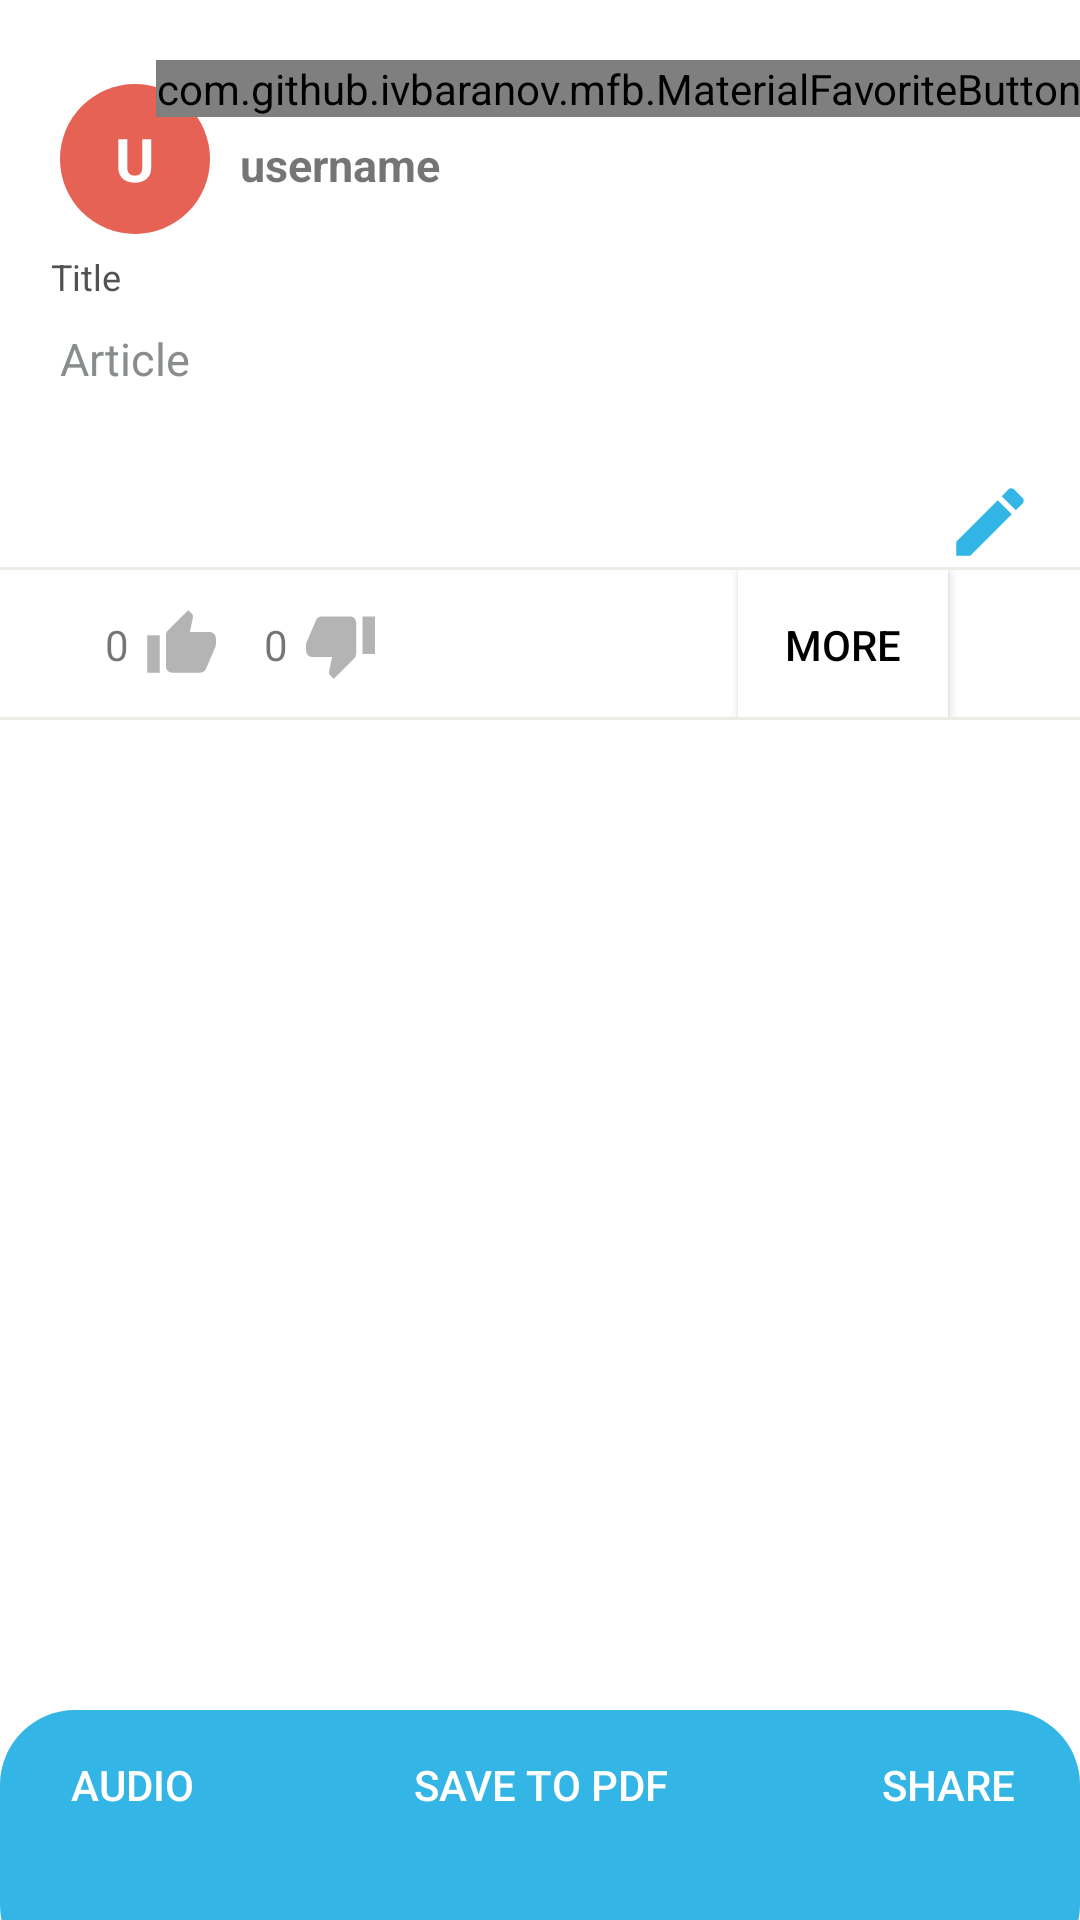

Icon click points for this 1080 x 1920 phone screenshot, format [x,y]:
dislike: [340,647]
edit: [990,522]
like: [181,641]
